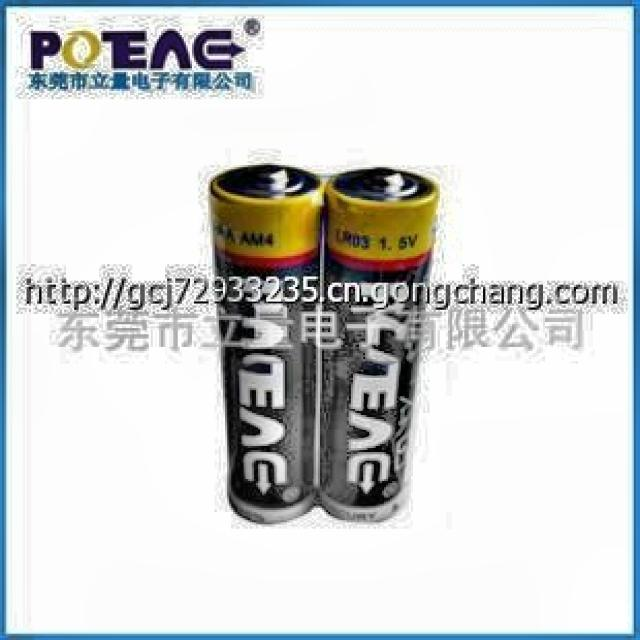Non-Valuable Waste - Batteries: (320, 167, 439, 519), (210, 164, 323, 522)
